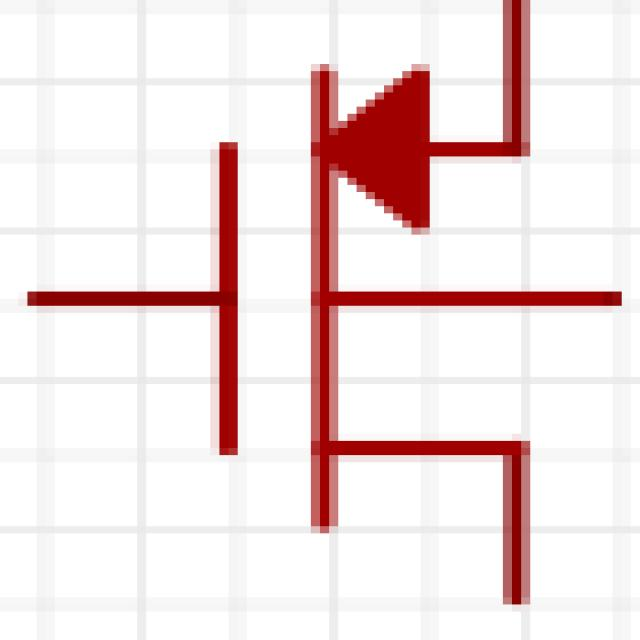pmos: (8, 26, 640, 590)
